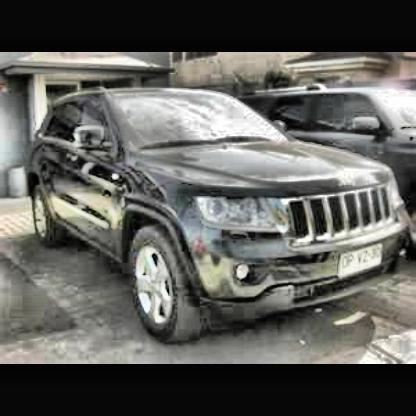Jeep Grand Cherokee SUV 2012: (26, 91, 414, 346)
